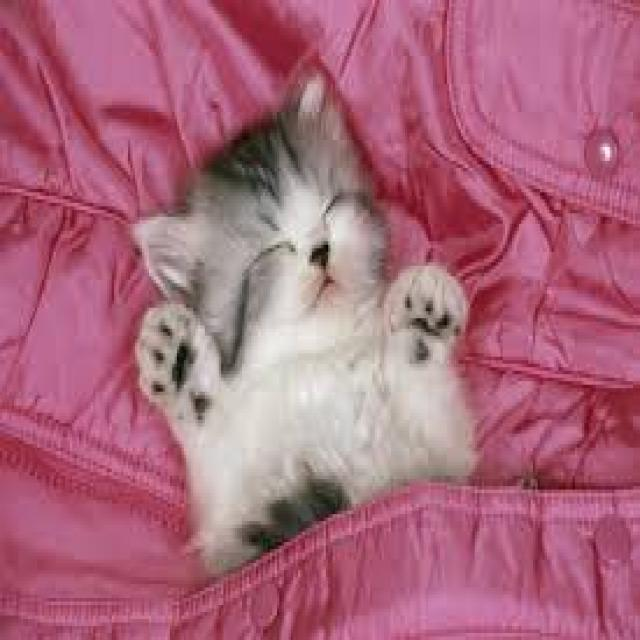Cat: (122, 71, 483, 585)
